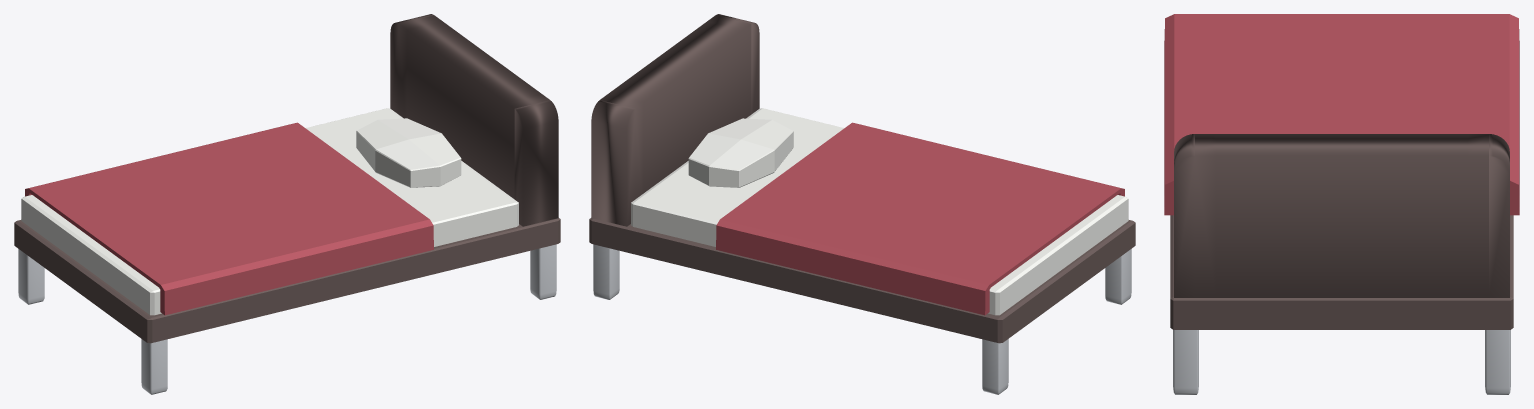
The model's file is base_bed_red.gltf.
3 renders of one model, left to right at view 1: azimuth 30°, elevation 25°; view 2: azimuth 150°, elevation 25°; view 3: azimuth 270°, elevation 25°, orthographic. The views are drawn at different scales.
Parts seen in each view (by area): view 1: Plane.007, Plane.004, Plane.002, Plane.003, Plane.005, Cube.001; view 2: Plane.007, Plane.004, Plane.002, Plane.003, Plane.005, Cube.001; view 3: Plane.004, Plane.007, Plane.002, Cube.001.
Boxes of the visible parts, <box> form: Plane.007: <box>25,122,433,315</box>; Plane.004: <box>390,14,558,226</box>; Plane.002: <box>14,218,560,343</box>; Plane.003: <box>21,108,518,315</box>; Plane.005: <box>356,118,461,187</box>; Cube.001: <box>18,244,556,394</box>; Plane.007: <box>716,122,1124,315</box>; Plane.004: <box>591,14,759,226</box>; Plane.002: <box>589,218,1135,343</box>; Plane.003: <box>631,108,1128,315</box>; Plane.005: <box>688,118,793,187</box>; Cube.001: <box>593,244,1131,394</box>; Plane.004: <box>1174,134,1509,297</box>; Plane.007: <box>1164,14,1519,215</box>; Plane.002: <box>1170,215,1513,329</box>; Cube.001: <box>1173,330,1510,394</box>.
Bounding box in the file's own units: 6.95 × 3.05 × 4.08.
